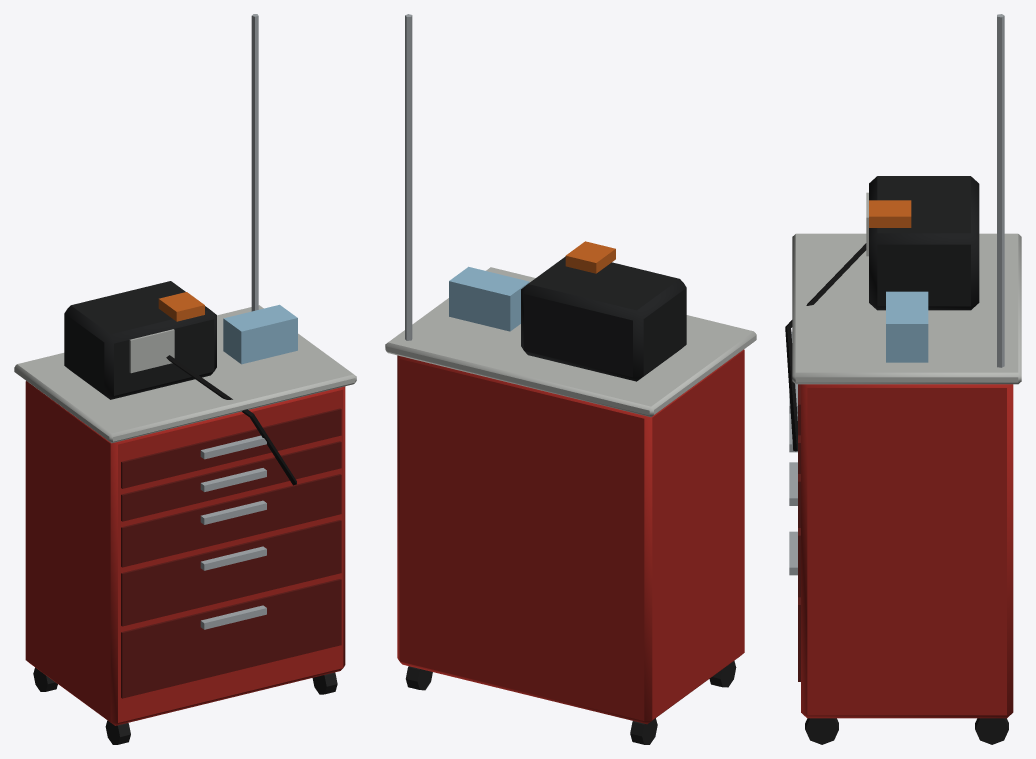
Rendered from crash_cart.glb.
3 views of the same model, side by side, from view 1: azimuth 30°, elevation 25°; view 2: azimuth 150°, elevation 25°; view 3: azimuth 270°, elevation 25° (orthographic). The views are drawn at different scales.
Visible parts, largest first — view 1: CrashCart; view 2: CrashCart; view 3: CrashCart.
Part boxes in pixels (x1,y1,x2,y2): CrashCart: (14,14,356,744); CrashCart: (385,14,756,744); CrashCart: (785,14,1021,744).
Size of the model in its own units: 0.79 by 1.89 by 0.557.
